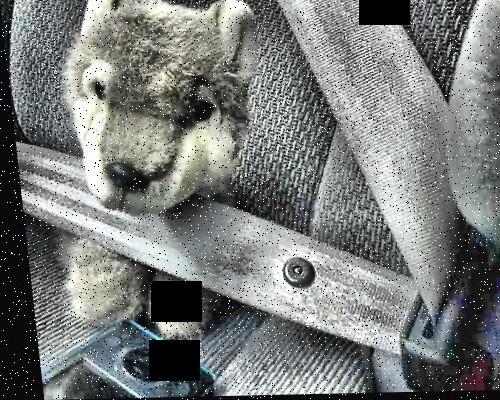seatbelt: (50, 20, 500, 360)
